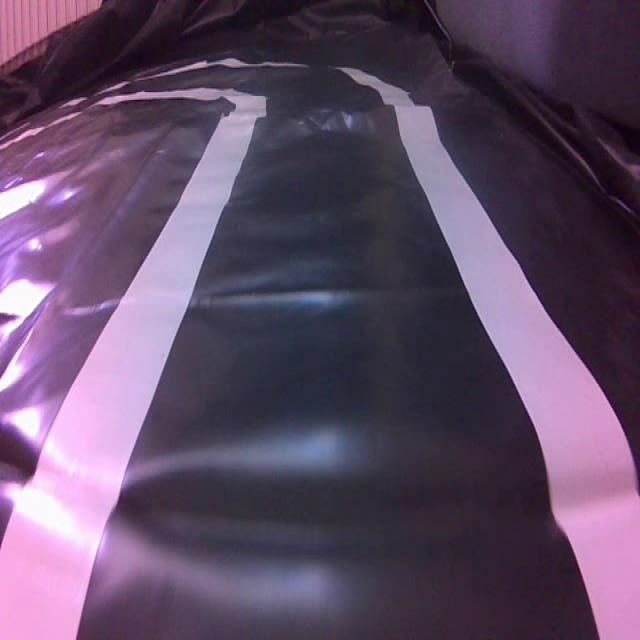LineaCarril: (343, 68, 640, 638), (0, 88, 266, 638)
